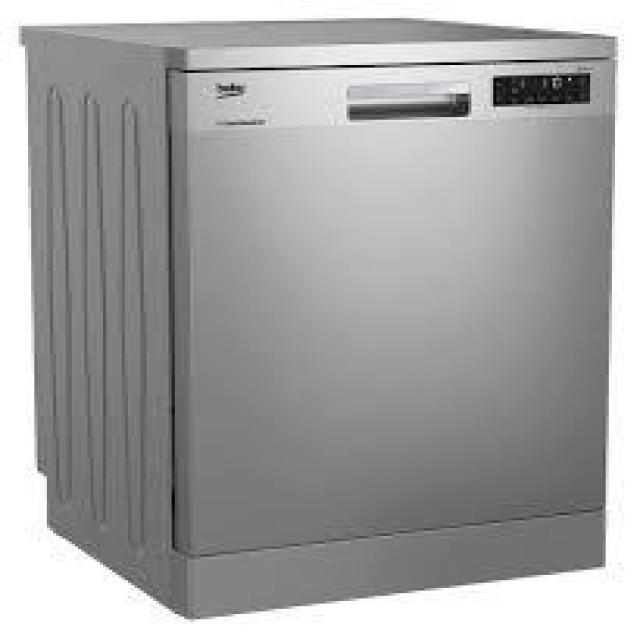dishwasher: (10, 13, 628, 624)
